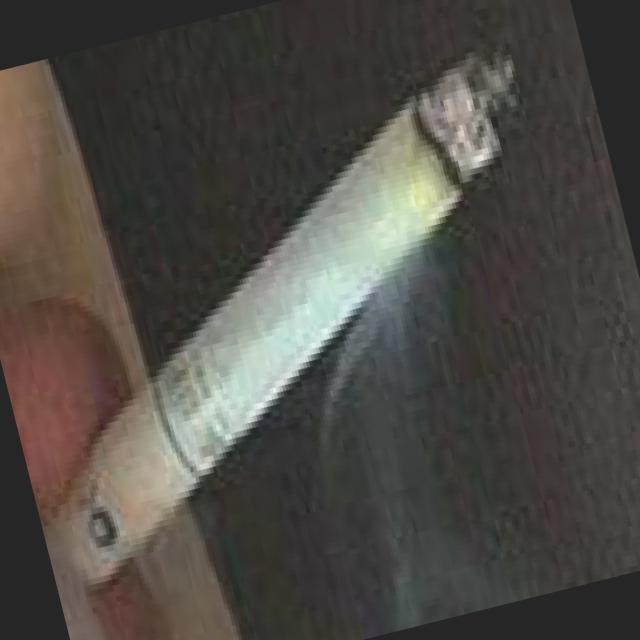smoke: (100, 31, 598, 492)
